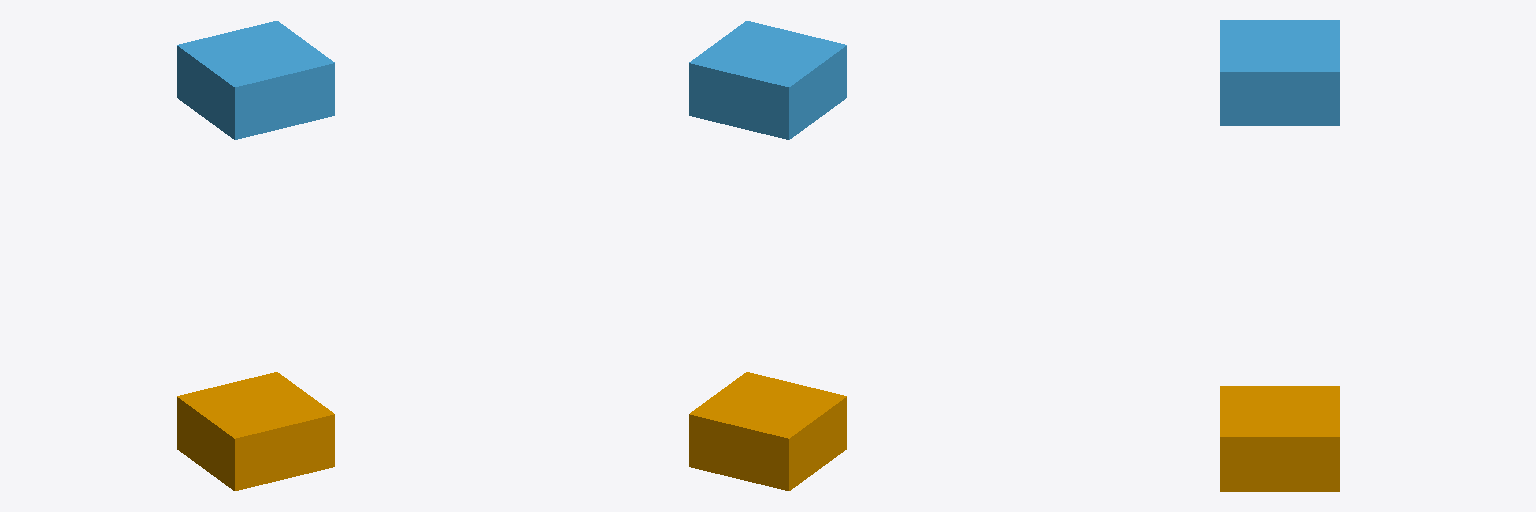
robot.urdf — myrobot:
<?xml version="1.0"?>
<robot name="myrobot"
    xmlns:xacro="http://ros.org/wiki/xacro">

    <!-- BASE LINK -->
    <link name="base_link">
        <visual>
            <origin xyz="0 0 0.075" />
            <geometry>
                <box size="0.3 0.3 0.15" />
            </geometry>
        </visual>
        <collision>
            <origin xyz="0 0 0.075" />
            <geometry>
                <box size="0.3 0.3 0.15" />
            </geometry>
        </collision>
    </link>

    <joint name="laser_link_joint" type="fixed">
        <parent link="base_link" />
        <child link="laser_link" />
        <origin xyz="0 0 1" />
    </joint>

    <!-- LINK2 -->
    <link name="laser_link">
        <visual>
            <origin xyz="0 0 0.075" />
            <geometry>
                <box size="0.3 0.3 0.15" />
            </geometry>
        </visual>
        <collision>
            <origin xyz="0 0 0.075" />
            <geometry>
                <box size="0.3 0.3 0.15" />
            </geometry>
        </collision>
    </link>
</robot>

--- What the picture shows (computed from the rendered views, not written in the file) ---
3 views of the same robot in one strip: view 1: azimuth 30°, elevation 25°; view 2: azimuth 150°, elevation 25°; view 3: azimuth 270°, elevation 25° (orthographic).
Model myrobot with 2 links and 1 joints (1 fixed), rooted at base_link, posed all joints at 0.
Visible links, largest first — view 1: base_link, laser_link; view 2: base_link, laser_link; view 3: base_link, laser_link.
Boxes of the visible links, x1,y1,x2,y2 form: base_link: (177, 372, 334, 490); laser_link: (177, 21, 334, 139); base_link: (689, 372, 846, 490); laser_link: (689, 21, 846, 139); base_link: (1220, 386, 1339, 491); laser_link: (1220, 20, 1339, 125).
Size in the robot's own frame: 0.3 by 0.3 by 1.15 metres.
Geometry: primitives only (box / cylinder / sphere), no mesh files.